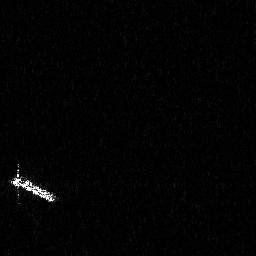ship: (7, 159, 60, 206)
